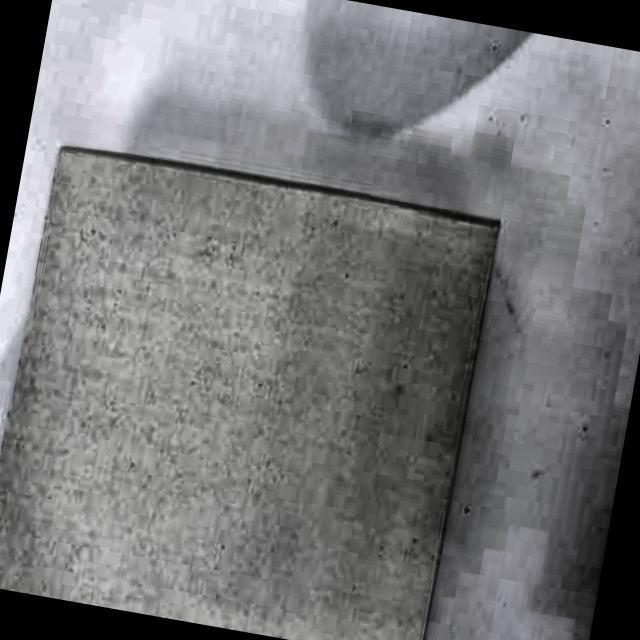cardboard: (0, 139, 501, 640)
